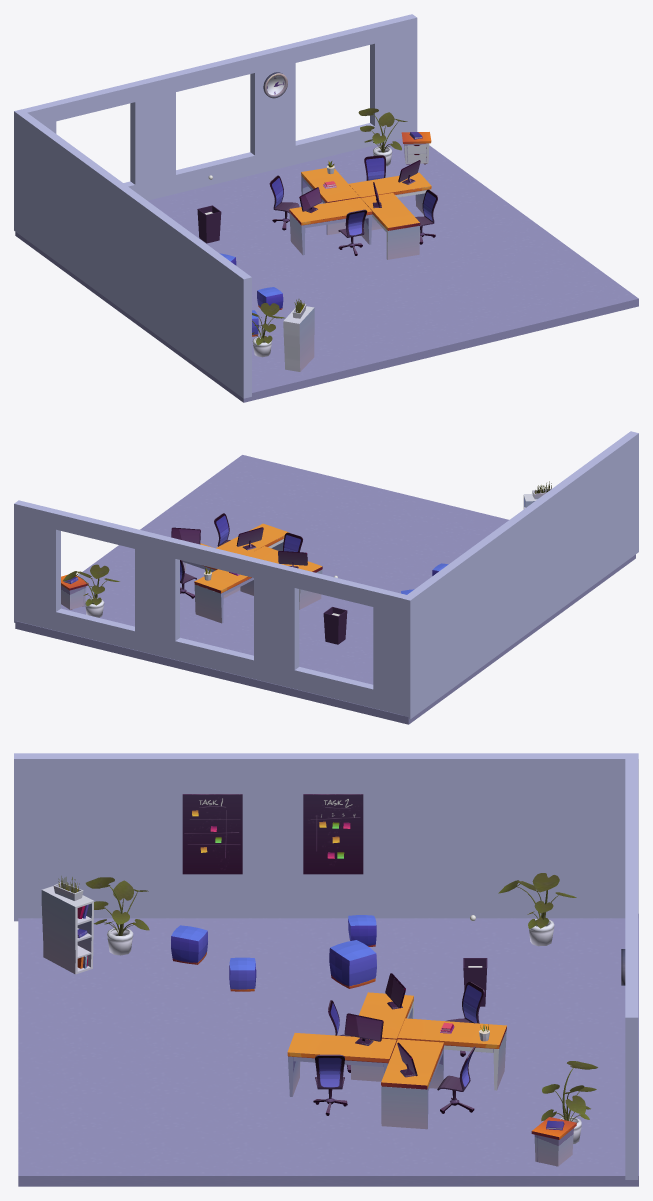
Rendered from office.glb.
3 views of the same model, one above another, from view 1: azimuth 30°, elevation 25°; view 2: azimuth 150°, elevation 25°; view 3: azimuth 270°, elevation 25° (orthographic). The views are drawn at different scales.
Parts seen in each view (by area): view 1: Ground, Wall.001, Wall, Desk.002, Desk.004, Cabinet2.001, Desk.001, Desk.003, plant (×2), Cabinet1, Bucket, Chair.001 (+2 smaller); view 2: Ground, Wall, Wall.001, Desk.001, Desk.002, Desk.004, Bucket, Cabinet1, plant, Monitor.001; view 3: Ground, Wall.001, Wall, Taskboard1, Taskboard2, Desk.003, plant (×3), Cabinet2.001, Desk.002, Desk.001, Desk.004, Pouf.004 (+9 smaller).
Boxes of the visible parts, <box> form: Ground: <box>15,138,638,402</box>; Wall.001: <box>14,109,251,398</box>; Wall: <box>17,14,417,200</box>; Desk.002: <box>361,193,420,259</box>; Desk.004: <box>289,198,372,255</box>; Cabinet2.001: <box>283,306,314,371</box>; Desk.001: <box>301,168,359,235</box>; Desk.003: <box>349,172,431,214</box>; plant (×2): <box>252,108,407,345</box>; Cabinet1: <box>401,132,431,164</box>; Bucket: <box>197,205,221,243</box>; Chair.001: <box>338,209,367,255</box>; Ground: <box>15,455,635,724</box>; Wall: <box>14,500,414,714</box>; Wall.001: <box>402,431,638,719</box>; Desk.001: <box>194,569,253,623</box>; Desk.002: <box>216,523,289,555</box>; Desk.004: <box>246,546,322,609</box>; Bucket: <box>323,607,347,644</box>; Cabinet1: <box>61,574,88,609</box>; plant: <box>62,564,119,606</box>; Monitor.001: <box>278,551,307,568</box>; Ground: <box>18,914,638,1186</box>; Wall.001: <box>14,753,638,921</box>; Wall: <box>625,754,638,1179</box>; Taskboard1: <box>182,794,242,874</box>; Taskboard2: <box>303,794,363,874</box>; Desk.003: <box>381,1039,443,1129</box>; plant (×3): <box>85,873,597,1121</box>; Cabinet2.001: <box>41,886,93,974</box>; Desk.002: <box>287,1033,396,1096</box>; Desk.001: <box>397,1018,506,1090</box>; Desk.004: <box>350,992,413,1081</box>; Pouf.004: <box>329,940,376,988</box>.
Size of what is drawn, in the model's own units: 10.07 by 3.02 by 10.07.
8 materials, 5 textured.
